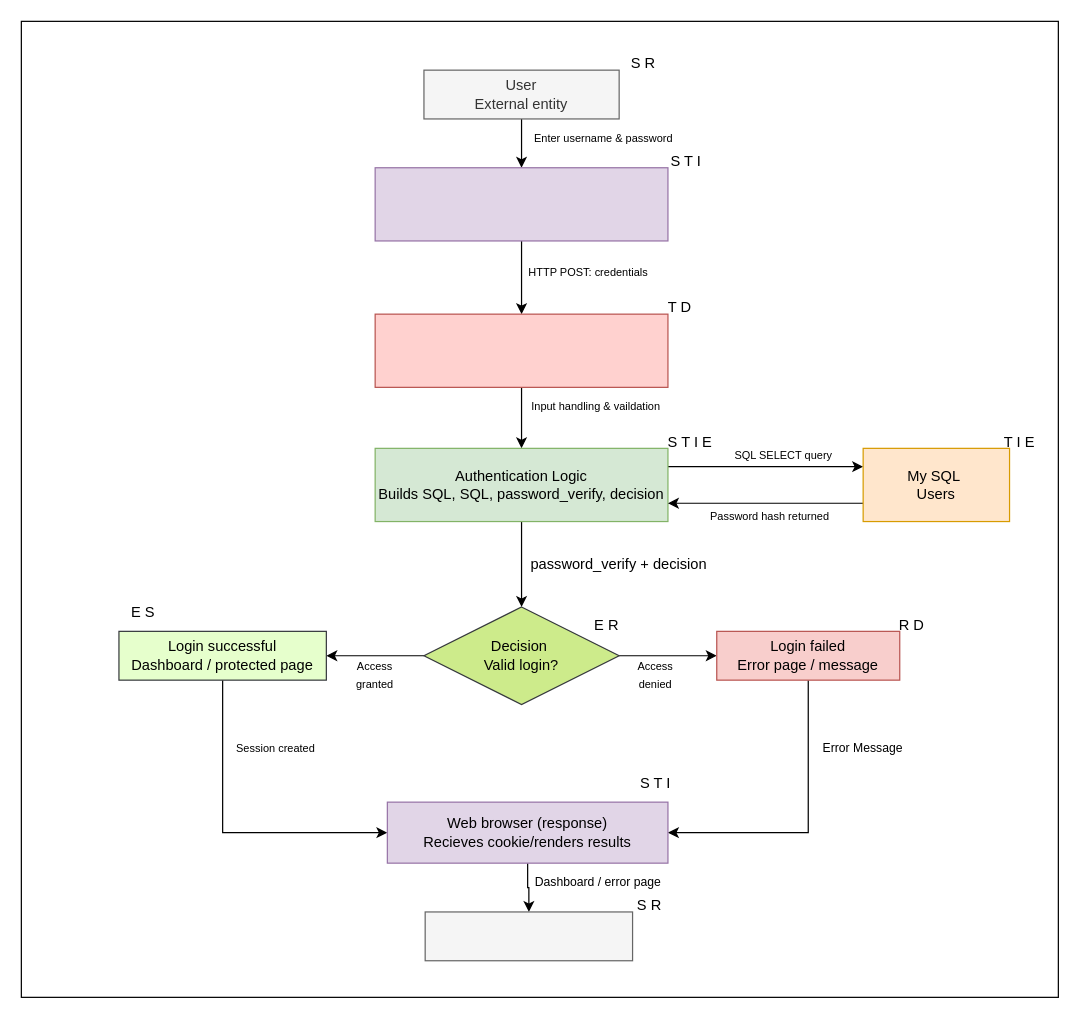
This 1080x1019 diagram has some shape labels left out. Each missing label, with the box of its shape:
User sees results: (424, 911, 633, 961)
Web Browser (Client UI) Renders form, stores session cookie: (374, 167, 668, 241)
Web server - PHP login page Input handling & validation: (374, 313, 668, 387)
